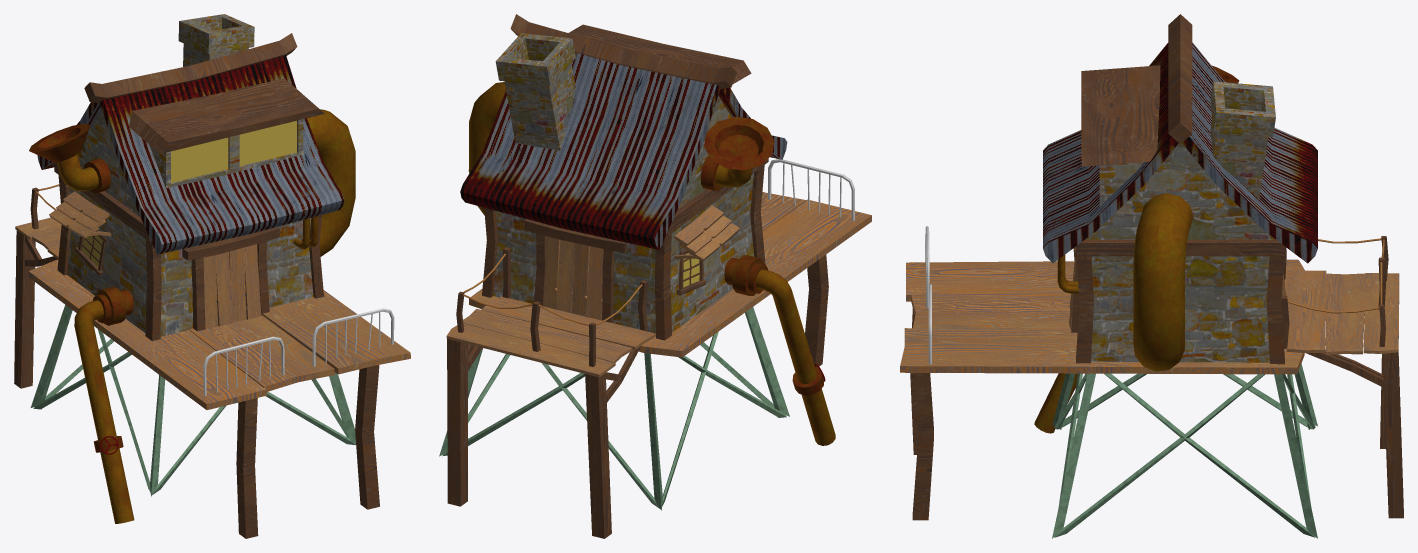
The model's file is Platform House.fbx.
3 renders of one model, left to right at view 1: azimuth 30°, elevation 25°; view 2: azimuth 150°, elevation 25°; view 3: azimuth 270°, elevation 25°, orthographic. The views are drawn at different scales.
Visible parts, largest first — view 1: Cube.064; view 2: Cube.064; view 3: Cube.064.
Boxes of the visible parts, x1,y1,x2,y2 form: Cube.064: (14, 14, 410, 538); Cube.064: (439, 14, 871, 538); Cube.064: (900, 14, 1403, 538).
Size of the model in its own units: 766 by 966 by 1010.
